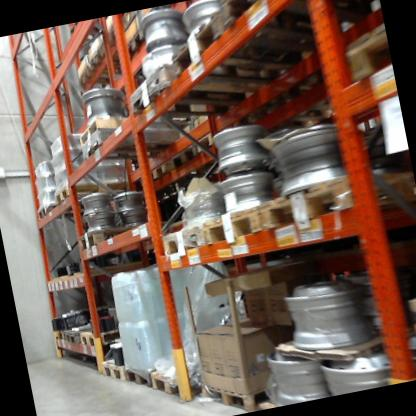pallet: (110, 35, 292, 144), (166, 0, 322, 112), (253, 159, 416, 241), (216, 0, 387, 73), (66, 94, 215, 172), (338, 12, 394, 89), (50, 169, 138, 216), (198, 370, 273, 416), (112, 25, 178, 76), (202, 197, 270, 241), (73, 217, 142, 257), (191, 123, 243, 166), (148, 359, 199, 399), (120, 352, 160, 396), (33, 195, 86, 228), (161, 221, 209, 256), (80, 321, 127, 350), (96, 354, 129, 390), (164, 136, 200, 167), (144, 154, 173, 190), (65, 321, 89, 347), (56, 329, 67, 343)
